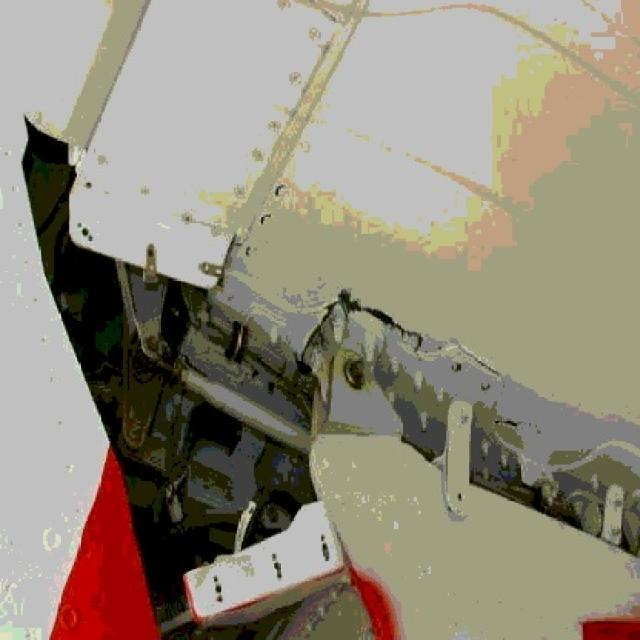crack: (350, 298, 424, 338)
